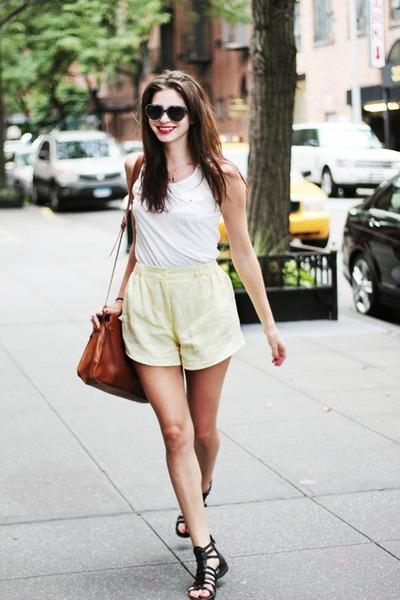bag: (77, 309, 147, 402)
dress: (108, 170, 239, 371)
shoe: (186, 540, 228, 599)
